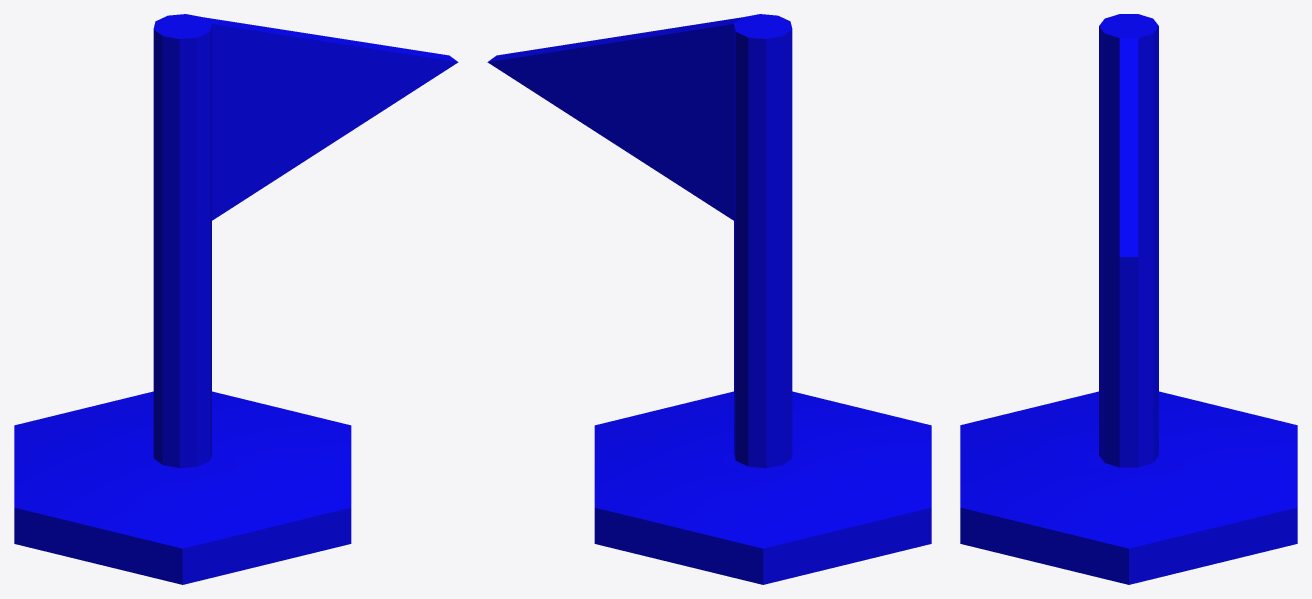
The model's file is Boardgame_Flag_Token_Blue_01.fbx.
3 renders of one model, left to right at view 1: azimuth 30°, elevation 25°; view 2: azimuth 150°, elevation 25°; view 3: azimuth 270°, elevation 25°, orthographic.
Parts seen in each view (by area): view 1: Model; view 2: Model; view 3: Model.
Part boxes in pixels (x1,y1,x2,y2): Model: (14, 14, 458, 584); Model: (487, 14, 931, 584); Model: (960, 14, 1297, 584).
Size of the model in its own units: 244 by 253 by 162.
